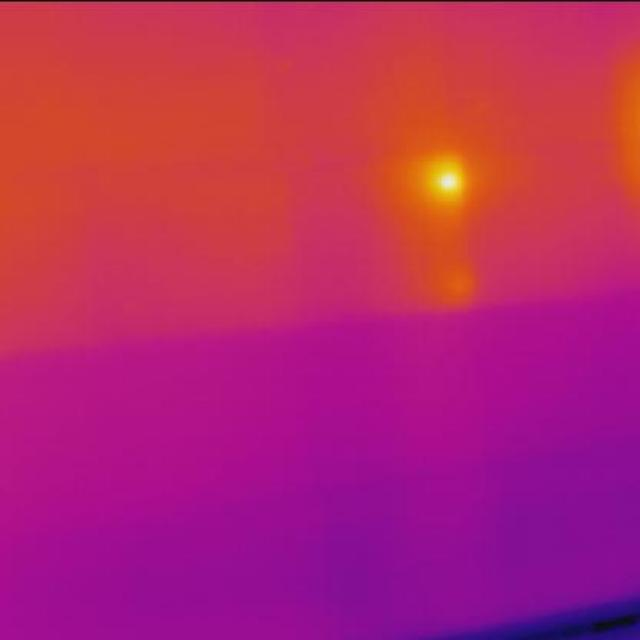hotspot: (422, 144, 483, 213)
